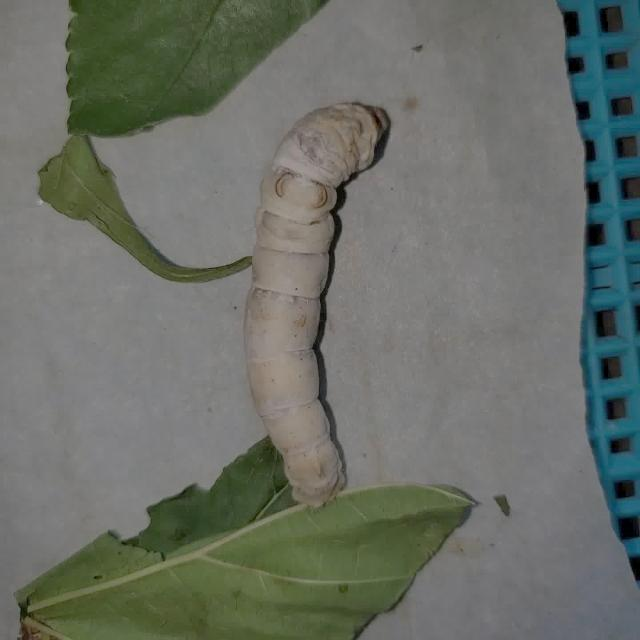Grasserie: (208, 62, 472, 538)
